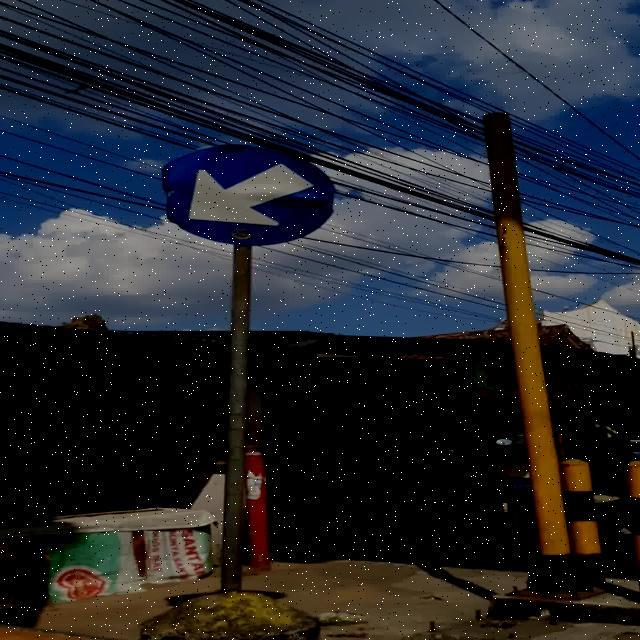Lajur Kiri: (162, 144, 332, 245)
